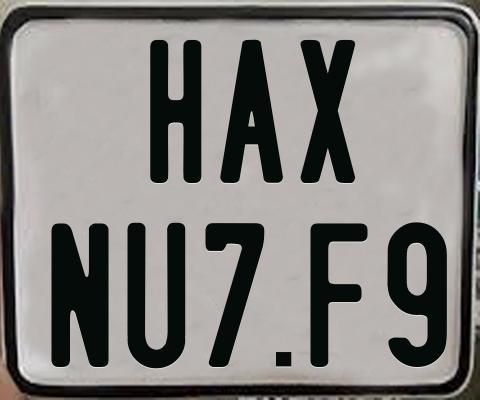7: (202, 223, 263, 373)
9: (387, 219, 452, 365)
A: (220, 38, 288, 183)
F: (310, 220, 368, 367)
H: (150, 38, 207, 187)
N: (51, 220, 111, 365)
U: (126, 221, 186, 367)
X: (299, 37, 360, 184)
